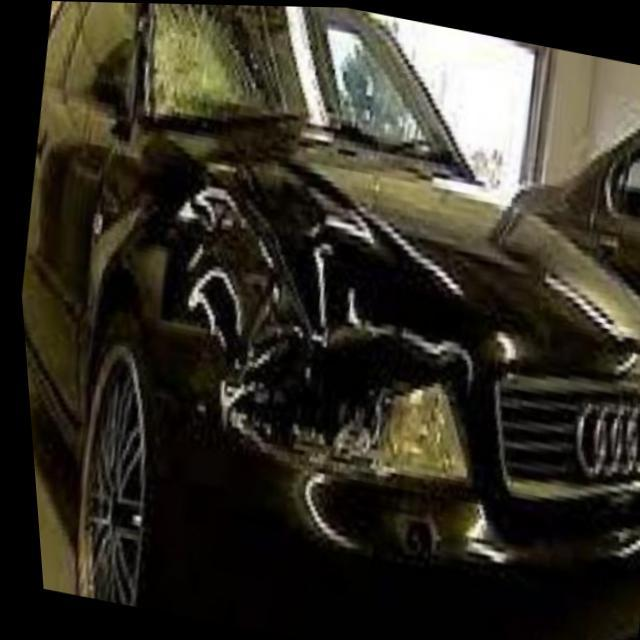dent: (166, 177, 430, 501)
glass shatter: (146, 3, 276, 120)
